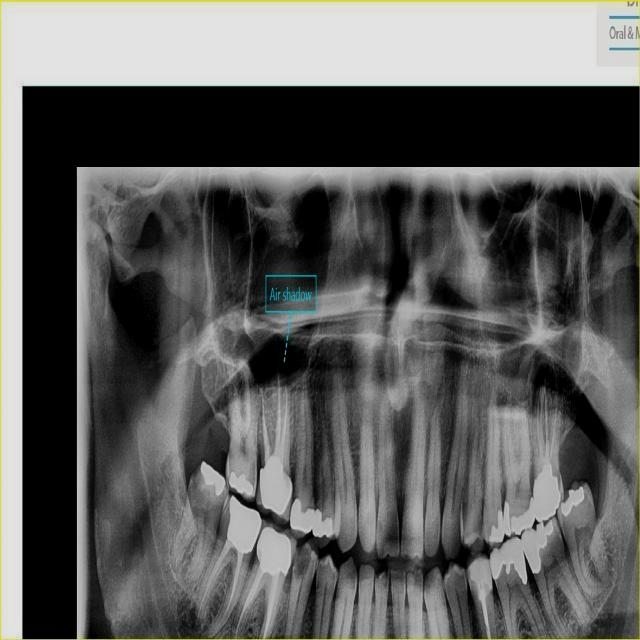Caries: (293, 545, 311, 583), (190, 465, 202, 493), (474, 512, 484, 538), (249, 459, 257, 491)
Crown: (255, 522, 294, 578), (255, 459, 292, 514)
Filling: (227, 494, 262, 553), (521, 520, 553, 574), (532, 463, 561, 522), (489, 537, 526, 583), (469, 555, 492, 595), (511, 498, 535, 535), (290, 497, 315, 532), (201, 462, 224, 495), (561, 487, 584, 516), (313, 508, 334, 538), (229, 472, 253, 496), (489, 508, 504, 543), (503, 501, 511, 534)
Root Canal Treatment: (198, 539, 233, 616), (236, 563, 266, 635), (219, 551, 244, 624), (273, 369, 287, 465), (537, 382, 549, 470), (264, 573, 279, 639), (261, 385, 269, 464), (550, 395, 557, 463)
